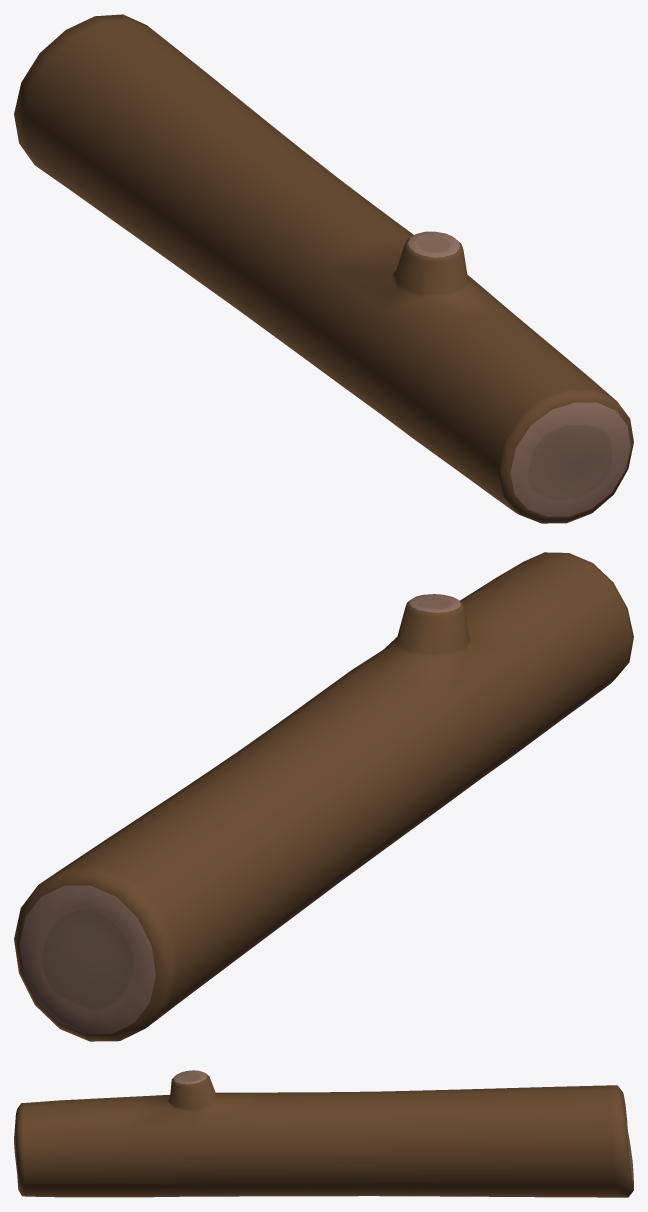
Rendered from fallen-log-lg.fbx.
3 renders of one model, top to bottom at view 1: azimuth 30°, elevation 25°; view 2: azimuth 150°, elevation 25°; view 3: azimuth 270°, elevation 25°, orthographic. The views are drawn at different scales.
Visible parts, largest first — view 1: fallen-log-large; view 2: fallen-log-large; view 3: fallen-log-large.
Boxes of the visible parts, left/top/right/bottom form: fallen-log-large: left=14, top=14, right=633, bottom=523; fallen-log-large: left=14, top=552, right=633, bottom=1041; fallen-log-large: left=14, top=1070, right=633, bottom=1197.
Bounding box in the file's own units: 0.9219 × 1.06 × 5.1.
